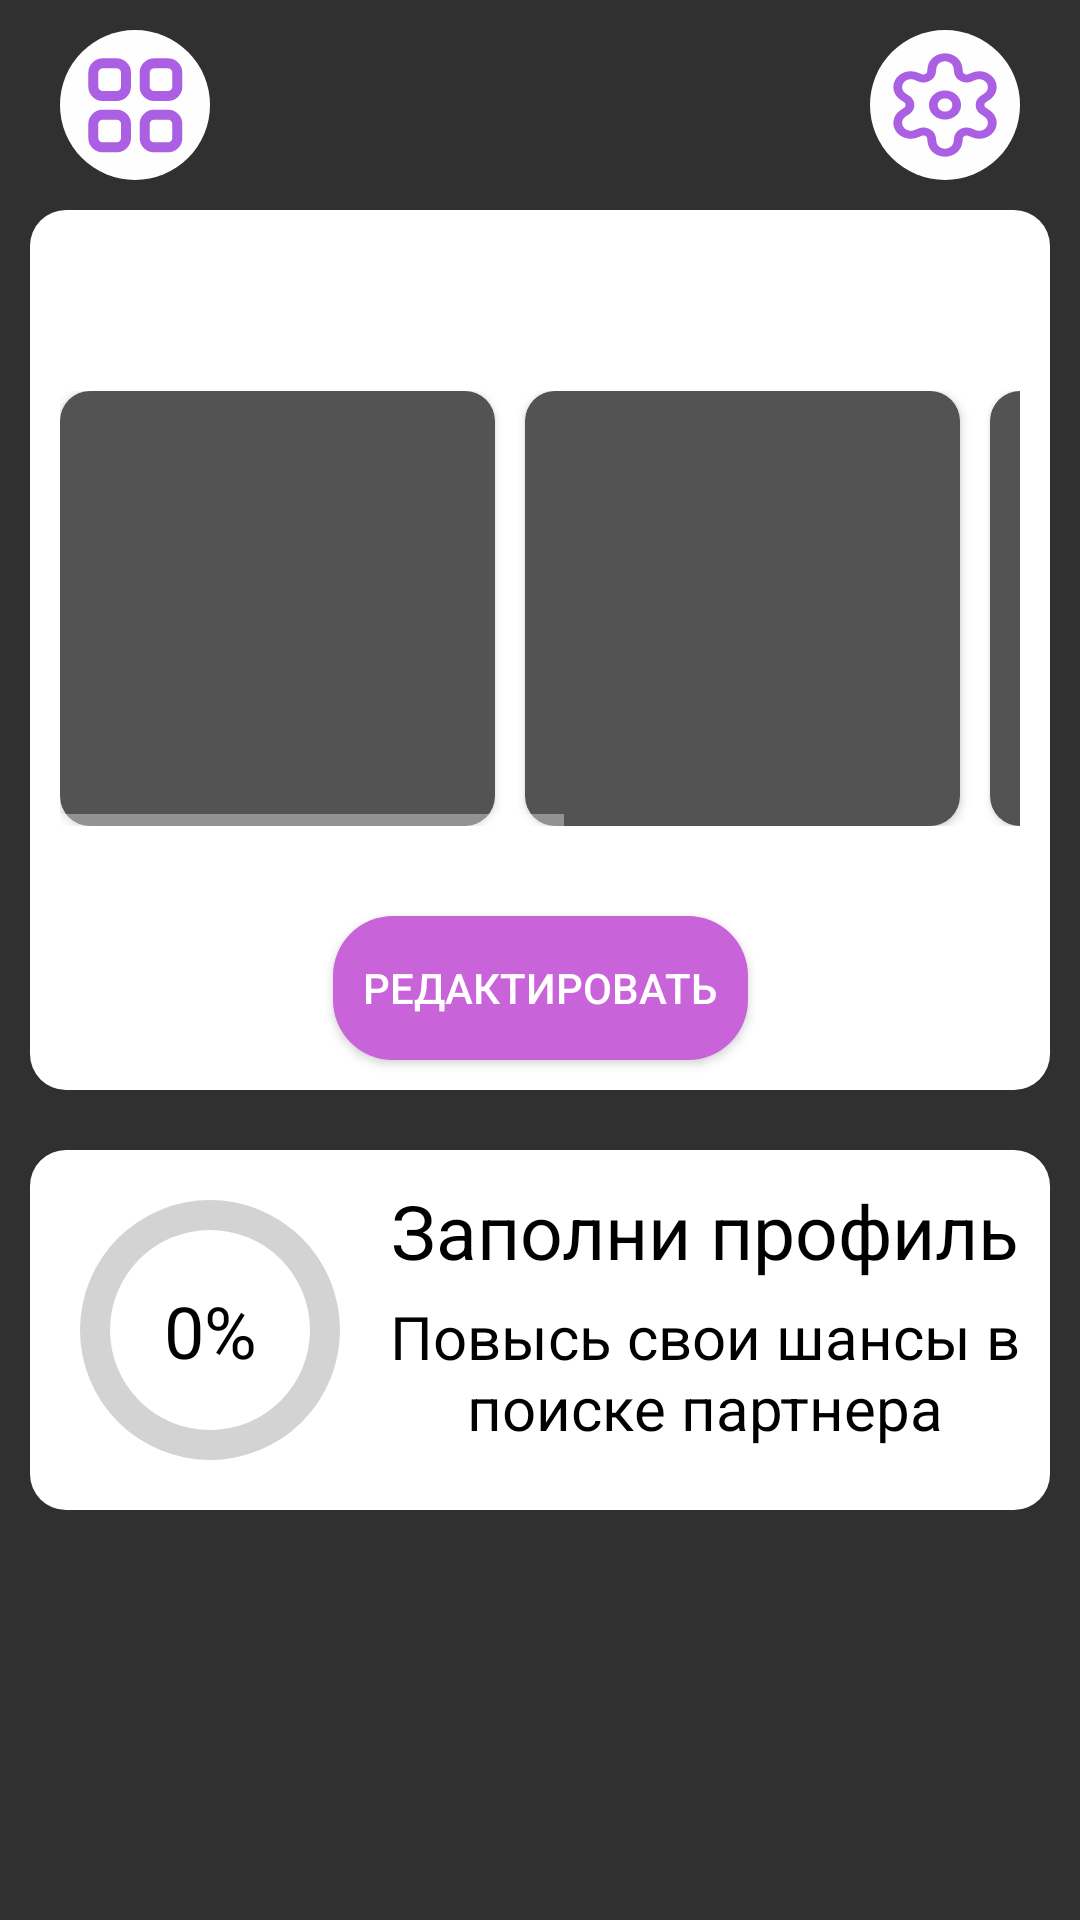

Where icons sit on this 1080w x 1920h app screen, as detection(x1, y1, x2, y2):
navigation but menu: detection(60, 30, 210, 180)
navigation but settings: detection(870, 30, 1020, 180)
